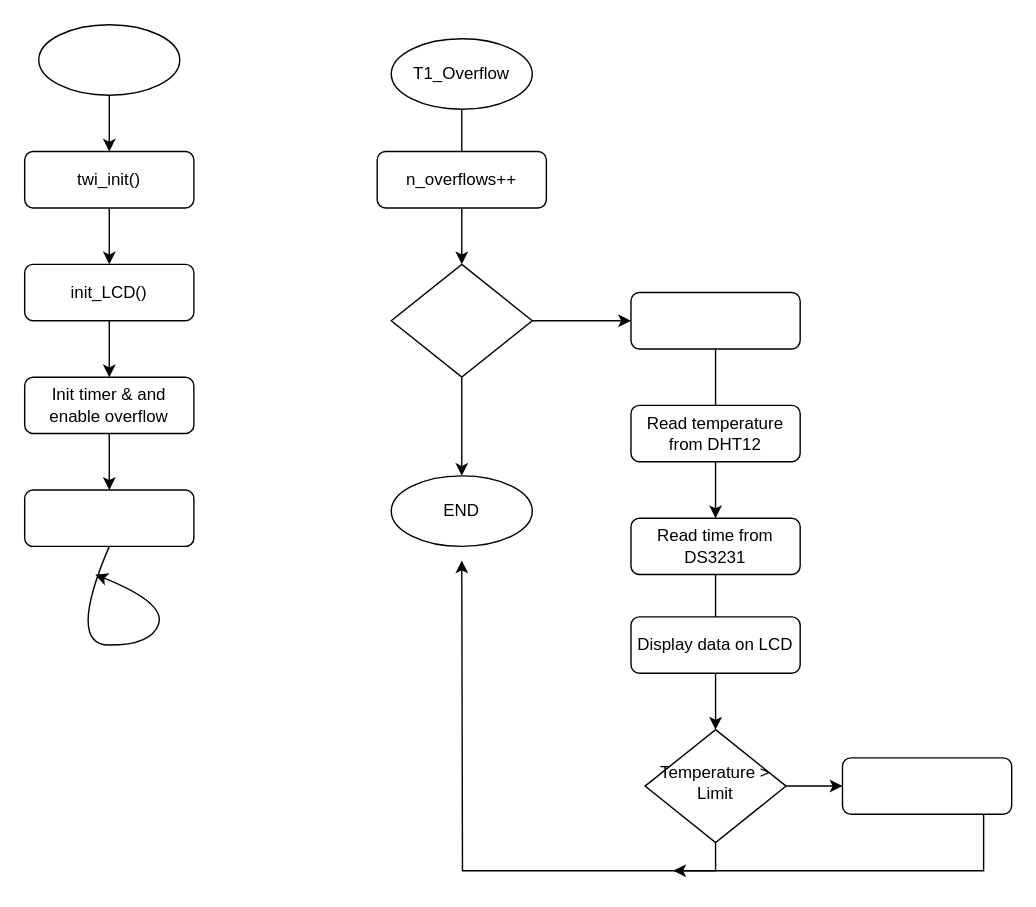
Some shapes in this 1036 by 907 pixel diagram are drawn without their labels. The shapes that lost their labels are listed below. From the top down, each one's box as (x1, y1, x2, y2) in pixels, then its label:
(37, 23, 180, 95): Main
(390, 263, 532, 377): n_overflows>30
(630, 291, 800, 349): Read himidity from DHT12
(23, 489, 194, 546): Sei()
(841, 756, 1012, 814): Turn LED on
